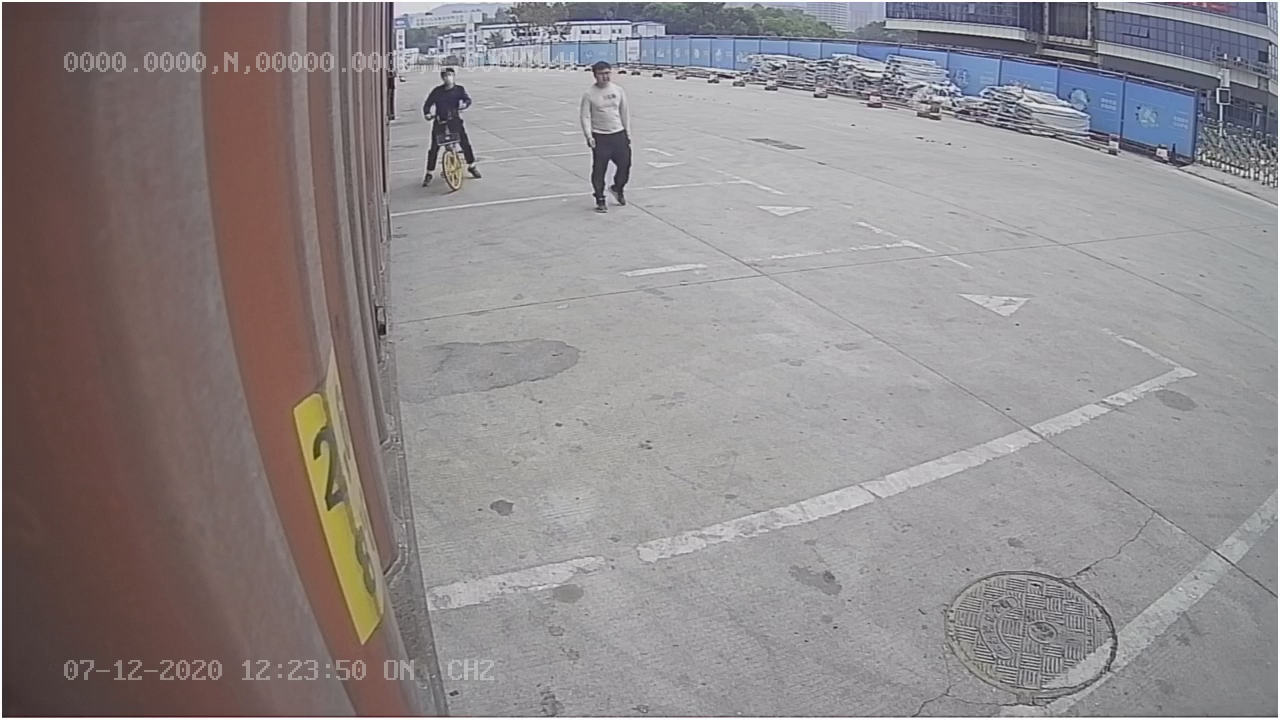person: (572, 58, 636, 217)
